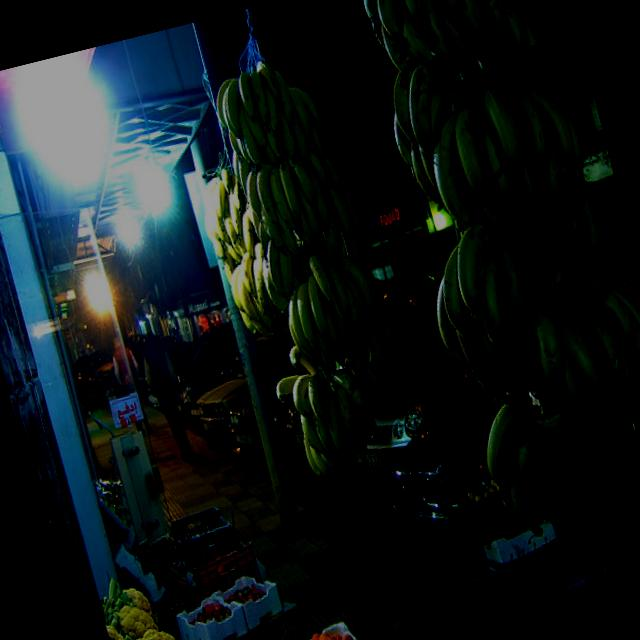Vehicle: (350, 266, 640, 557), (319, 299, 488, 494), (209, 337, 327, 470), (183, 332, 308, 432), (164, 334, 253, 429), (373, 266, 444, 322), (592, 243, 640, 324), (279, 398, 311, 458), (593, 222, 632, 256), (90, 360, 118, 390)
